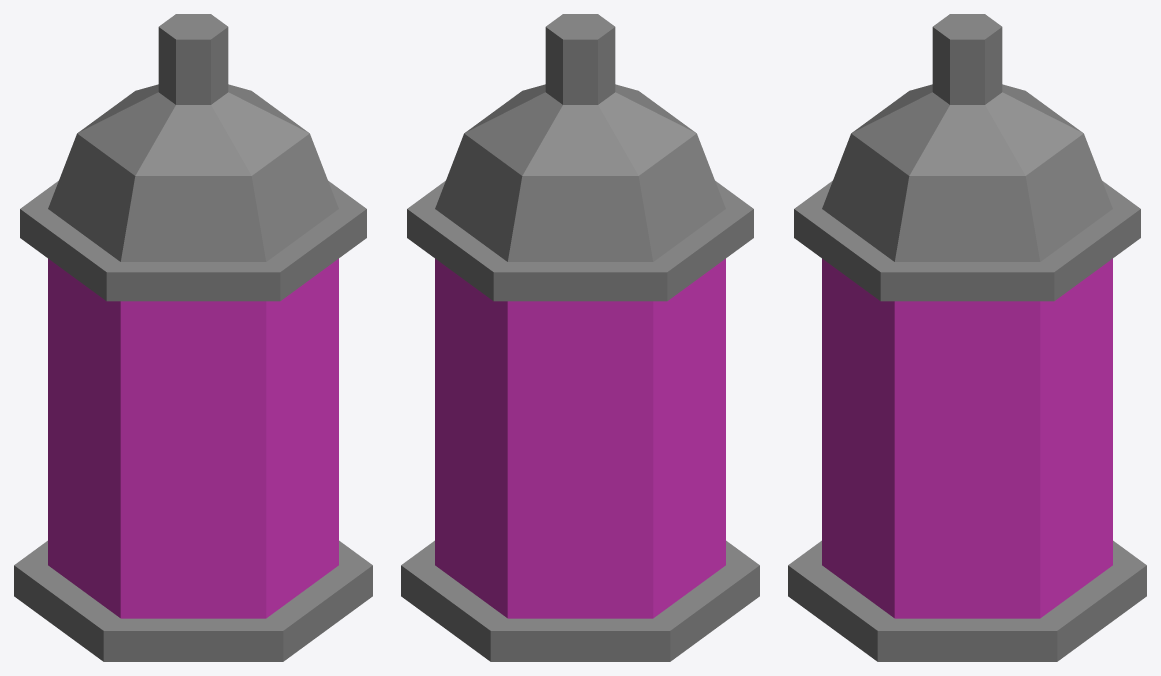
The model's file is Can.fbx.
3 renders of one model, left to right at view 1: azimuth 30°, elevation 25°; view 2: azimuth 150°, elevation 25°; view 3: azimuth 270°, elevation 25°, orthographic.
Parts seen in each view (by area): view 1: Cylinder; view 2: Cylinder; view 3: Cylinder.
Part boxes in pixels (<box>): Cylinder: <box>14,14,372,661</box>; Cylinder: <box>401,14,759,661</box>; Cylinder: <box>788,14,1146,661</box>.
Bounding box in the file's own units: 218 × 441 × 252.
